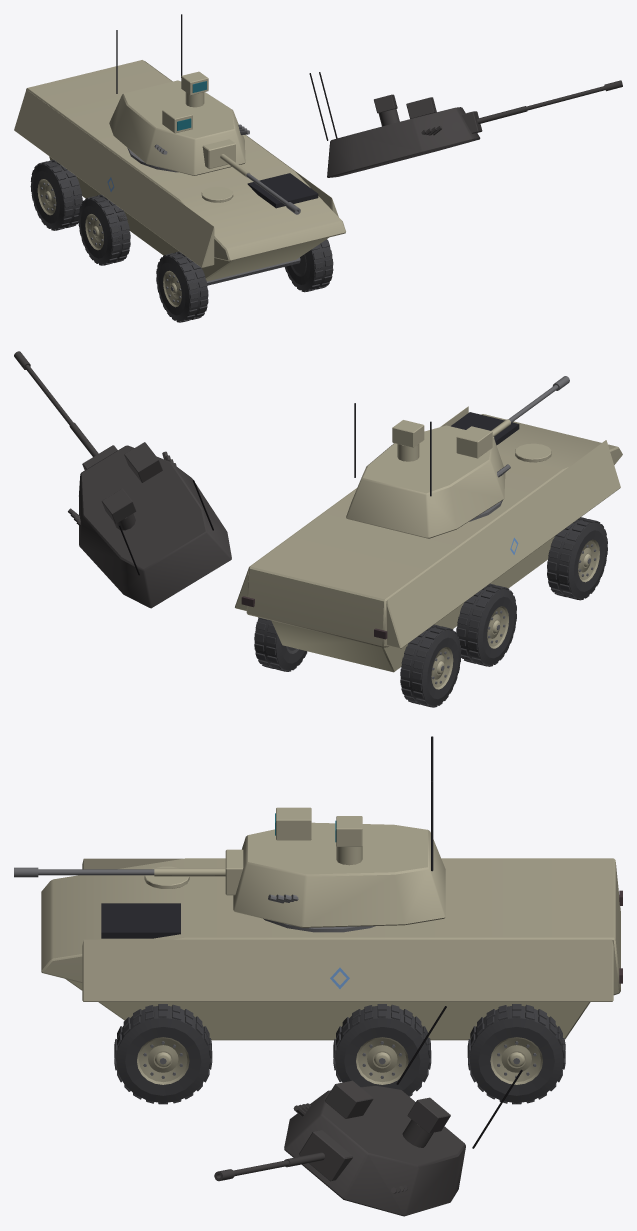
The model's file is reconVehicle__type_87_rcv.glb.
The picture shows the model from 3 angles, top to bottom: view 1: azimuth 30°, elevation 25°; view 2: azimuth 150°, elevation 25°; view 3: azimuth 270°, elevation 25°; orthographic projection. The views are drawn at different scales.
Visible parts, largest first — view 1: Hull_Mesh, Turret_Mesh, Wreck, Wheel_L1_Mesh, Wheel_L2_Mesh, Wheel_L0_Mesh, Wheel_R2_Mesh, Gun_Mesh; view 2: Hull_Mesh, Wreck, Turret_Mesh, Wheel_L0_Mesh, Wheel_L2_Mesh, Wheel_L1_Mesh, Wheel_R0_Mesh, Gun_Mesh; view 3: Hull_Mesh, Turret_Mesh, Wreck, Wheel_R2_Mesh, Wheel_R0_Mesh, Wheel_R1_Mesh, Gun_Mesh.
Boxes of the visible parts, box(x1,y1,x2,y2) form: Hull_Mesh: box(14, 60, 345, 285); Turret_Mesh: box(109, 14, 249, 175); Wreck: box(49, 72, 622, 319); Wheel_L1_Mesh: box(78, 194, 130, 265); Wheel_L2_Mesh: box(156, 251, 208, 322); Wheel_L0_Mesh: box(30, 159, 82, 230); Wheel_R2_Mesh: box(284, 239, 333, 291); Gun_Mesh: box(202, 139, 300, 214); Hull_Mesh: box(235, 406, 622, 672); Wreck: box(14, 351, 586, 706); Turret_Mesh: box(346, 403, 510, 538); Wheel_L0_Mesh: box(400, 624, 461, 707); Wheel_L2_Mesh: box(547, 517, 607, 600); Wheel_L1_Mesh: box(456, 583, 516, 666); Wheel_R0_Mesh: box(254, 617, 307, 671); Gun_Mesh: box(491, 376, 569, 437); Hull_Mesh: box(41, 858, 622, 1040); Turret_Mesh: box(233, 736, 445, 927); Wreck: box(159, 1006, 522, 1216); Wheel_R2_Mesh: box(114, 1004, 212, 1104); Wheel_R0_Mesh: box(467, 1004, 565, 1104); Wheel_R1_Mesh: box(333, 1004, 431, 1096); Gun_Mesh: box(14, 849, 243, 895).
Size of what is drawn, in the model's own units: 8.16 by 3.48 by 6.48.
